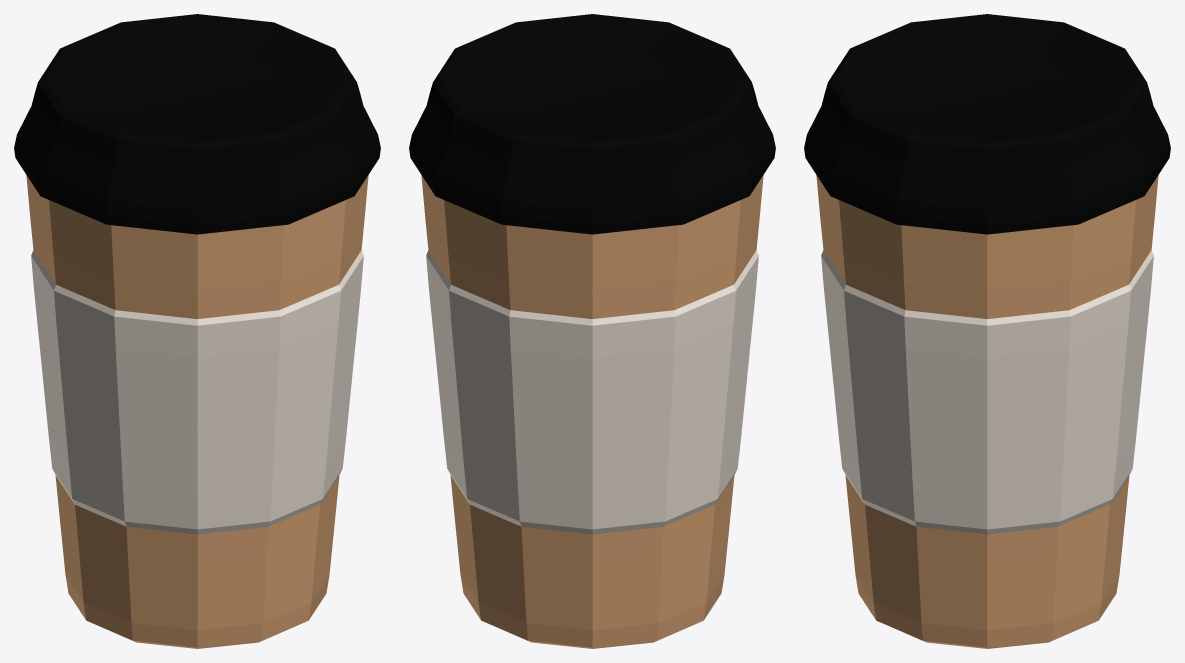
File: Coffe_Cup.fbx
3 renders of one model, left to right at view 1: azimuth 30°, elevation 25°; view 2: azimuth 150°, elevation 25°; view 3: azimuth 270°, elevation 25°, orthographic.
Parts seen in each view (by area): view 1: Cup_Ring, Cylinder.018, Coffee_Cup; view 2: Cup_Ring, Cylinder.018, Coffee_Cup; view 3: Cup_Ring, Cylinder.018, Coffee_Cup.
Boxes of the visible parts, x1,y1,x2,y2 form: Cup_Ring: [31, 250, 363, 534]; Cylinder.018: [14, 14, 380, 234]; Coffee_Cup: [26, 175, 368, 648]; Cup_Ring: [426, 250, 758, 534]; Cylinder.018: [409, 14, 775, 234]; Coffee_Cup: [421, 175, 763, 648]; Cup_Ring: [821, 250, 1153, 534]; Cylinder.018: [804, 14, 1170, 234]; Coffee_Cup: [816, 175, 1158, 648].
Bounding box in the file's own units: 10.4 × 16.34 × 10.44.
